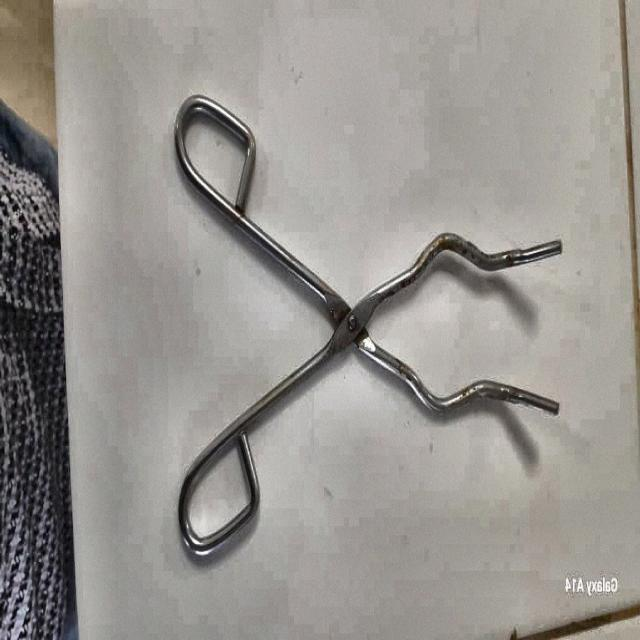Tongue: (152, 92, 580, 570)
